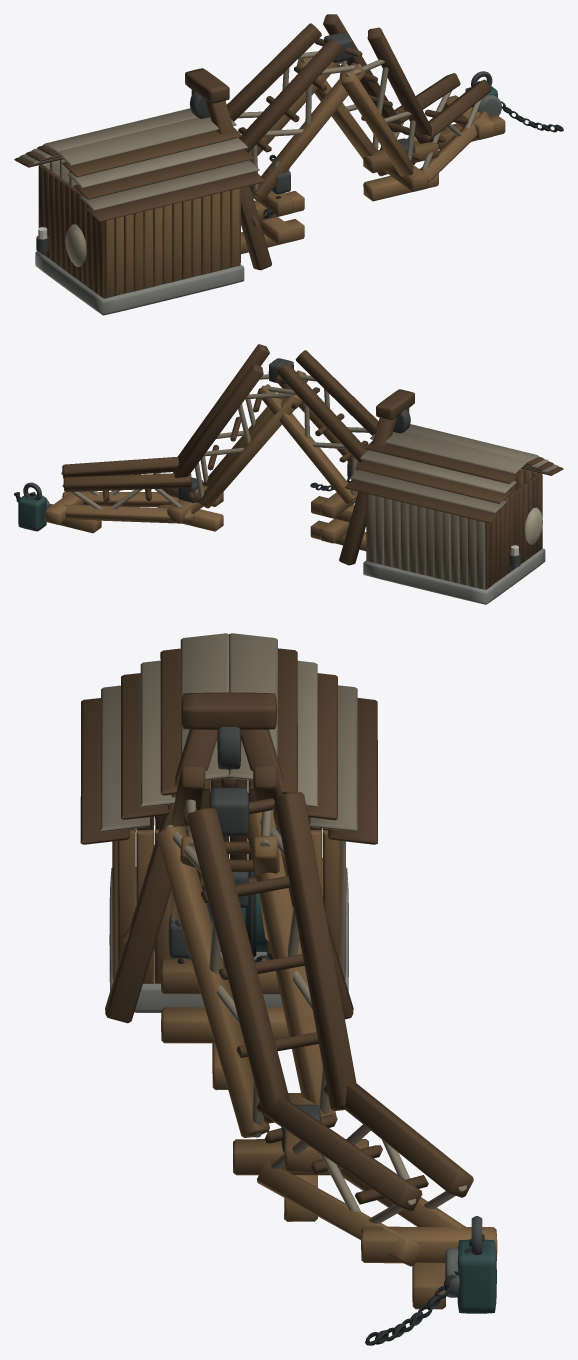
File: boom_crane_wreck_a.glb
3 renders of one model, top to bottom at view 1: azimuth 30°, elevation 25°; view 2: azimuth 150°, elevation 25°; view 3: azimuth 270°, elevation 25°, orthographic. The views are drawn at different scales.
Parts seen in each view (by area): view 1: Surface; view 2: Surface; view 3: Surface.
Boxes of the visible parts, x1=… form: Surface: x1=14, y1=14, x2=563, y2=315; Surface: x1=14, y1=344, x2=563, y2=604; Surface: x1=80, y1=633, x2=497, y2=1345.
Bounding box in the file's own units: 13.93 × 4.76 × 5.21.
